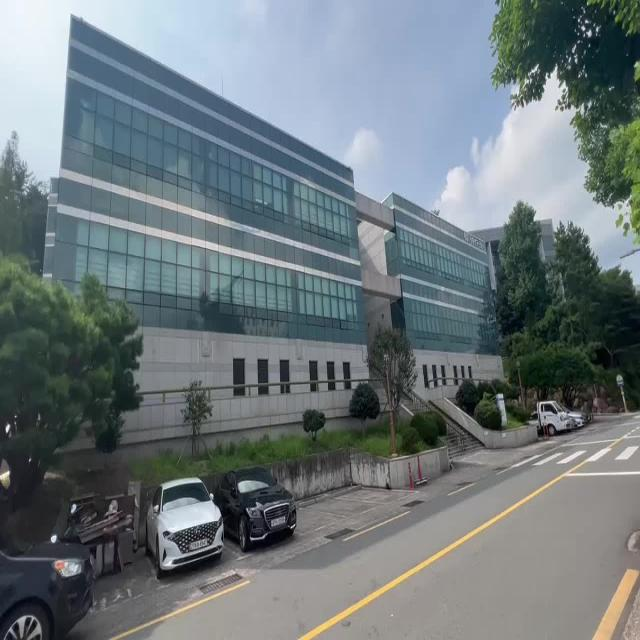building: (56, 43, 504, 388)
